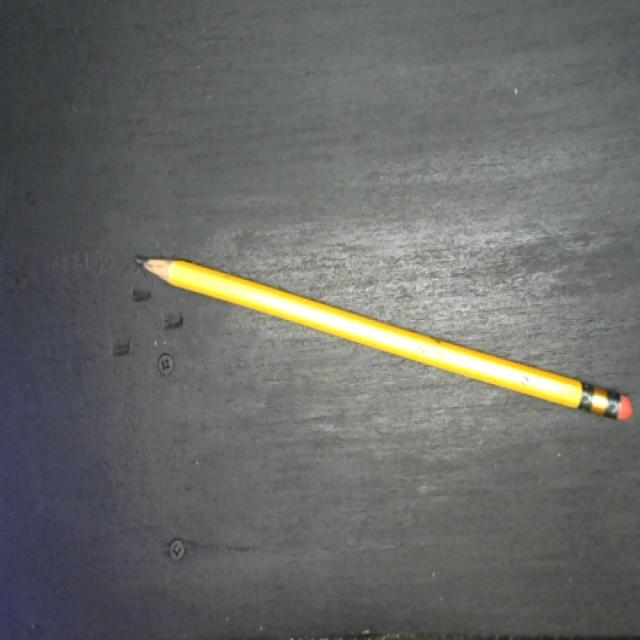biodegradable: (130, 252, 640, 423)
